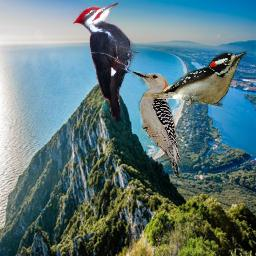Woodpecker: (73, 2, 139, 121), (131, 66, 186, 185), (142, 49, 247, 109)
